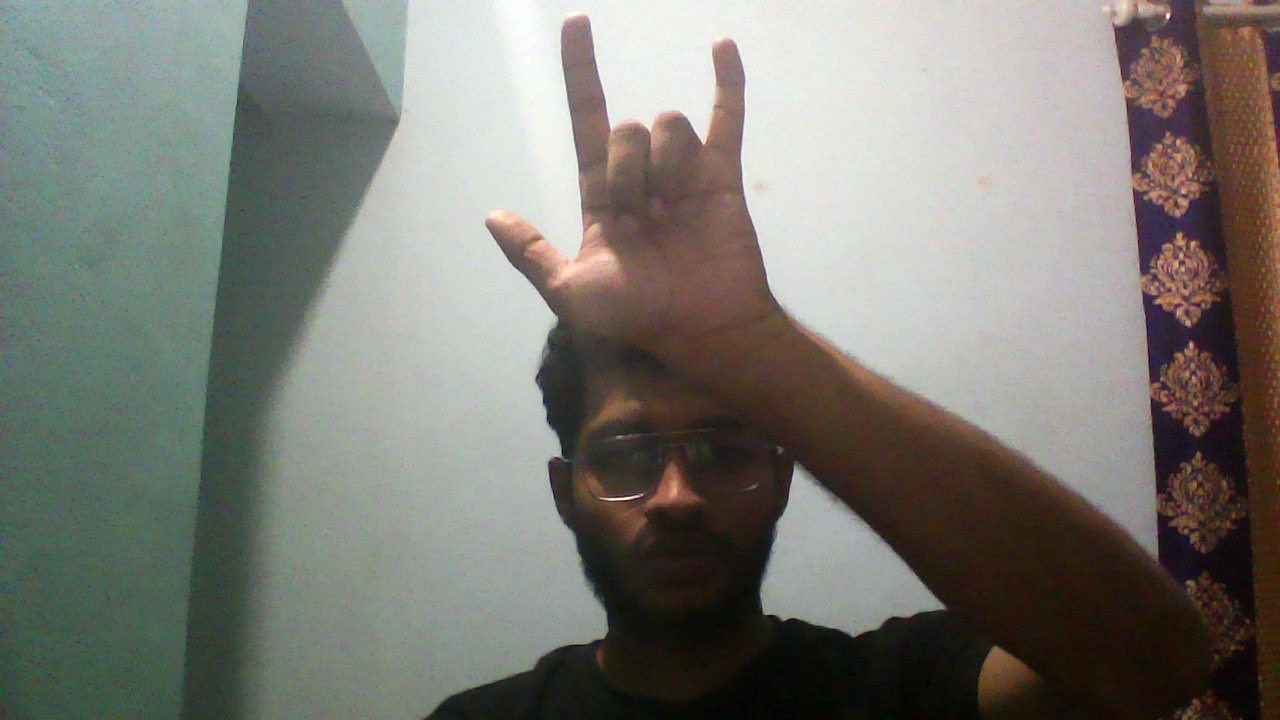I love you: (475, 1, 771, 298)
